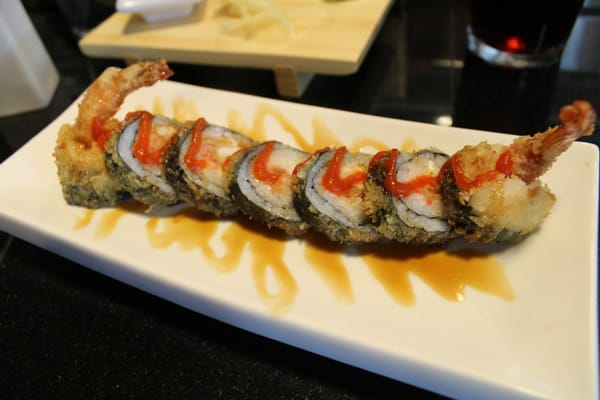pizza: (464, 1, 584, 71)
